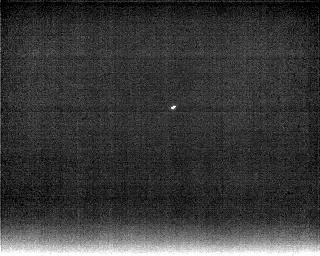BIRD: (169, 103, 178, 111)
